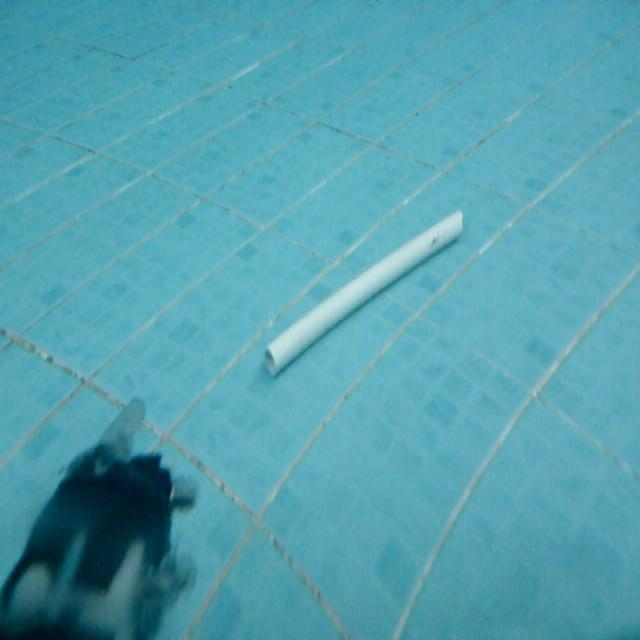Cube: (259, 204, 466, 379)
